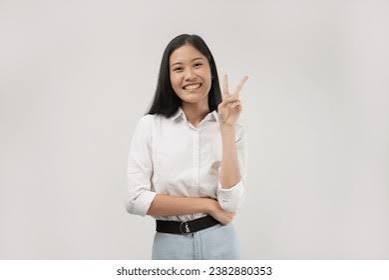peace_sign: (213, 74, 252, 131)
